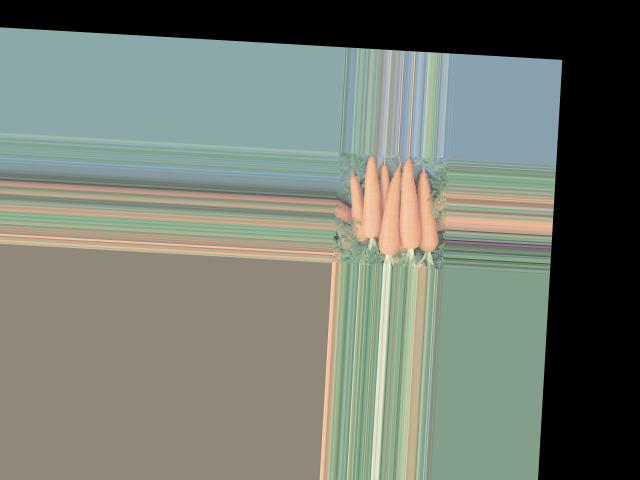carrot: (355, 158, 386, 242)
